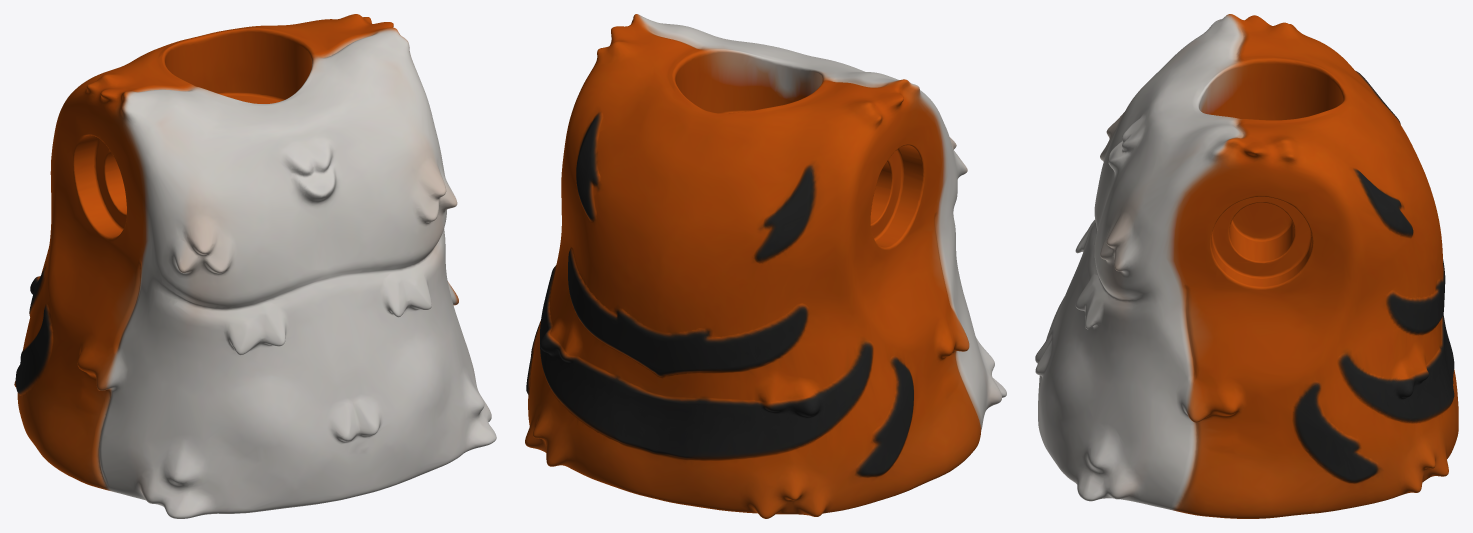
File: Buste_Tigre.glb
3 views of the same model, side by side, from view 1: azimuth 30°, elevation 25°; view 2: azimuth 150°, elevation 25°; view 3: azimuth 270°, elevation 25° (orthographic). The views are drawn at different scales.
Visible parts, largest first — view 1: Buste_Tigre; view 2: Buste_Tigre; view 3: Buste_Tigre.
Part boxes in pixels (x1,y1,x2,y2): Buste_Tigre: (14, 14, 496, 518); Buste_Tigre: (525, 14, 1006, 518); Buste_Tigre: (1035, 14, 1458, 518).
Size of the model in its own units: 3.92 by 3.46 by 3.78.
